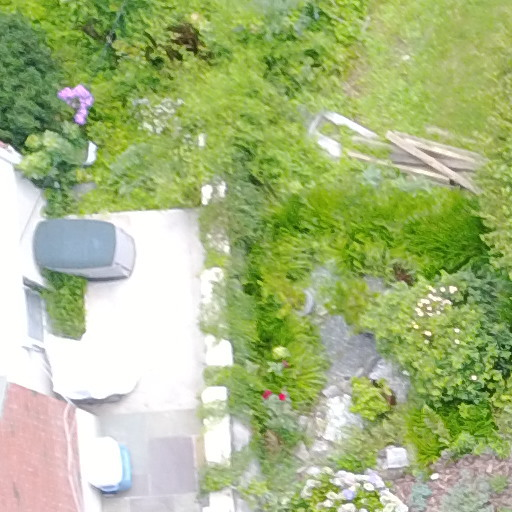container: (82, 428, 136, 499)
flower pot: (346, 362, 407, 431)
